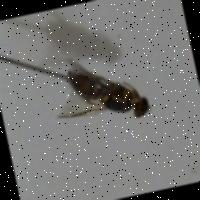Oriental-fruit-fly: (39, 36, 161, 144)
